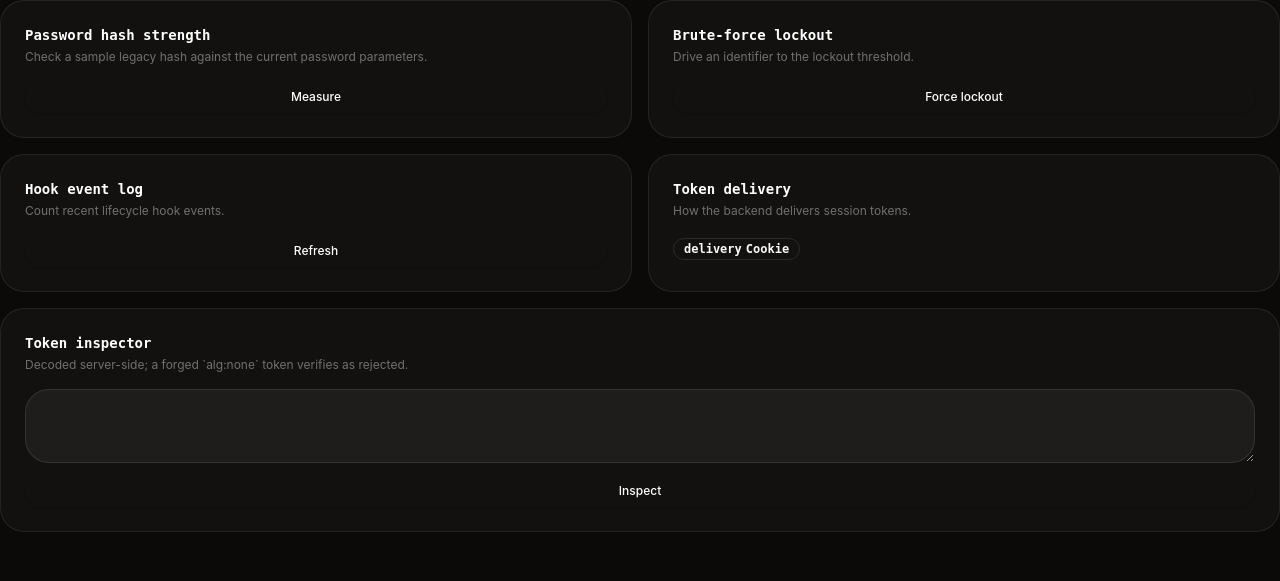
DiagnosticsMatrix — hook log › counts an array payload from the hooks endpoint
This screenshot has width=1280, height=581.
What coordinates should you click on to do the following:
click the button "Refresh"
I would click on:
 (316, 251)
Its box is [25, 235, 607, 267].
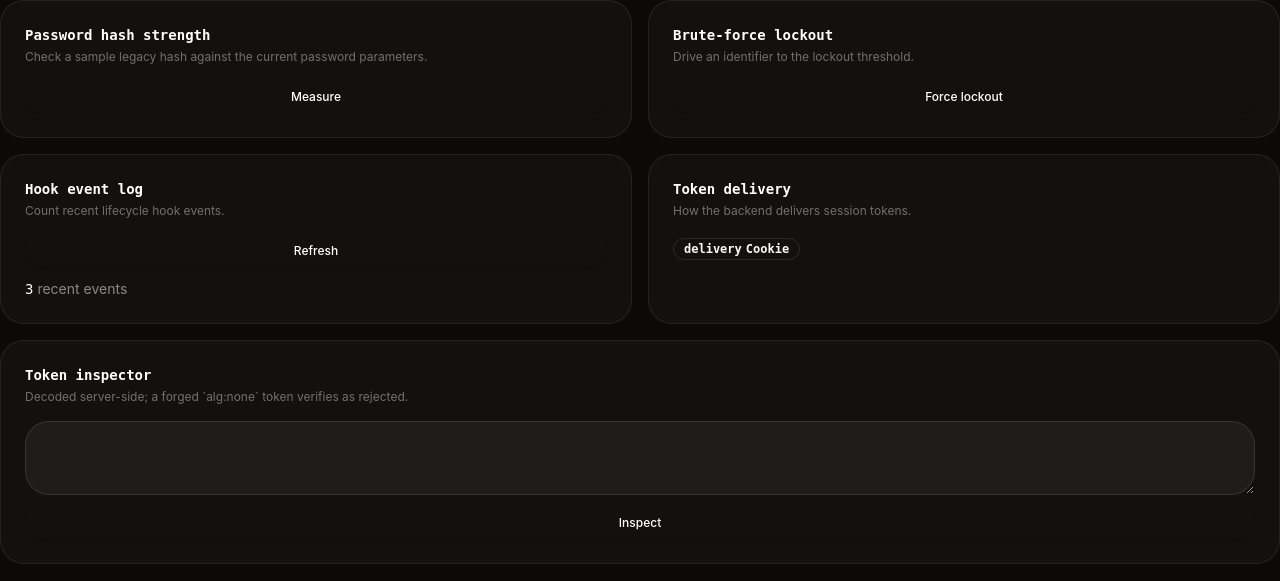
Now the text "3" is shown, box [25, 281, 33, 297]
